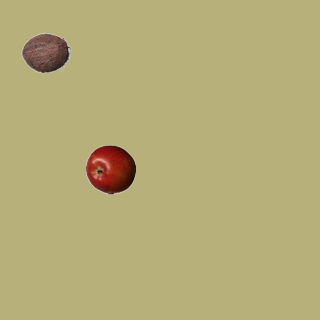Apple Braeburn: (85, 144, 135, 194)
Cocos: (20, 27, 70, 77)
